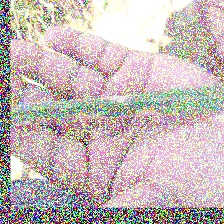Leaf_Blast: (21, 104, 185, 131), (83, 77, 224, 108)
